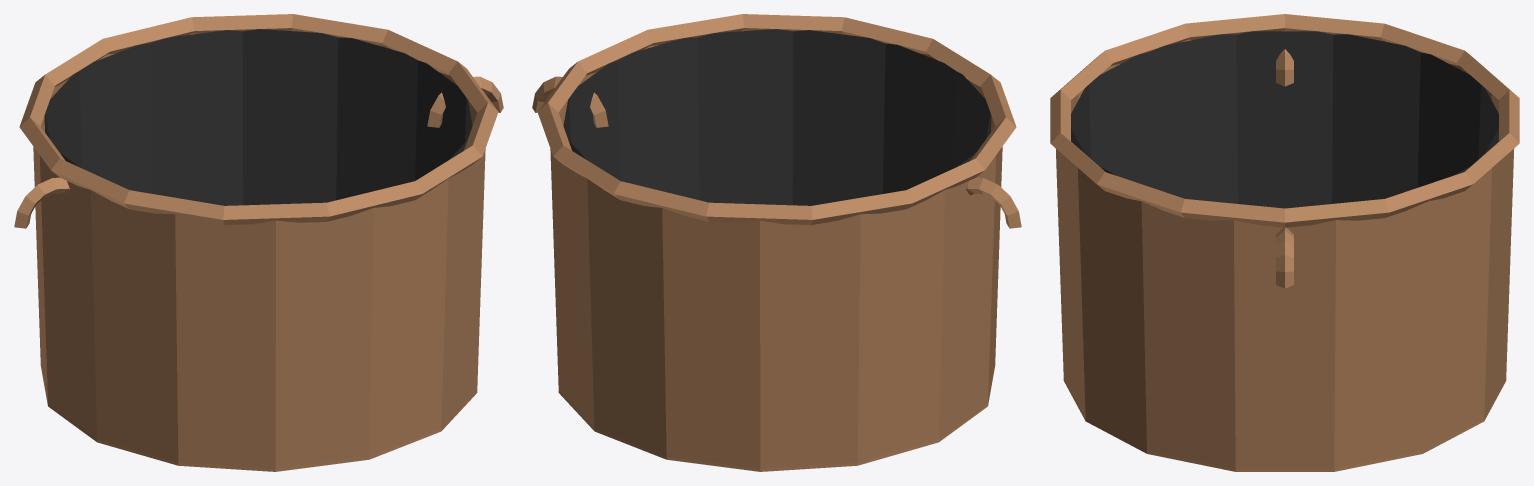
Rendered from olla.glb.
3 views of the same model, side by side, from view 1: azimuth 30°, elevation 25°; view 2: azimuth 150°, elevation 25°; view 3: azimuth 270°, elevation 25° (orthographic).
Visible parts, largest first — view 1: olla; view 2: olla; view 3: olla.
Part boxes in pixels (x1,y1,x2,y2): olla: (14,14,503,471); olla: (532,14,1021,471); olla: (1050,14,1519,471).
Bounding box in the file's own units: 0.32 × 0.168 × 0.2652.
